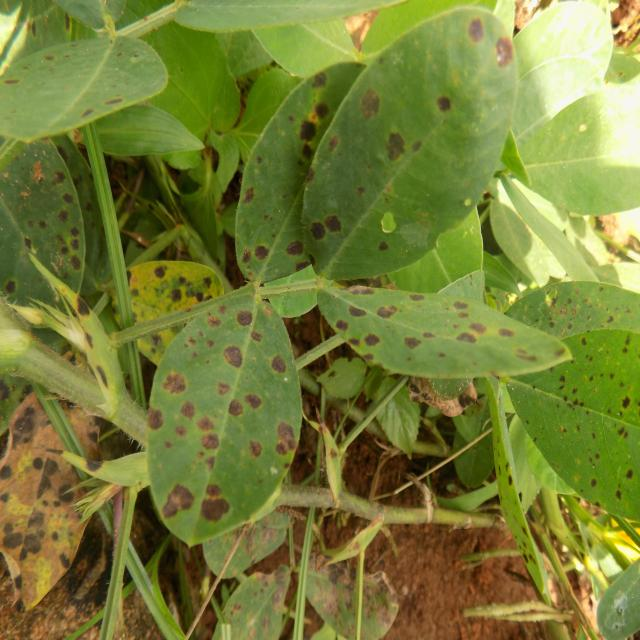Ground nut_tikka leaf spot: (298, 12, 512, 272), (142, 280, 305, 544), (235, 53, 404, 279), (298, 284, 574, 373)
